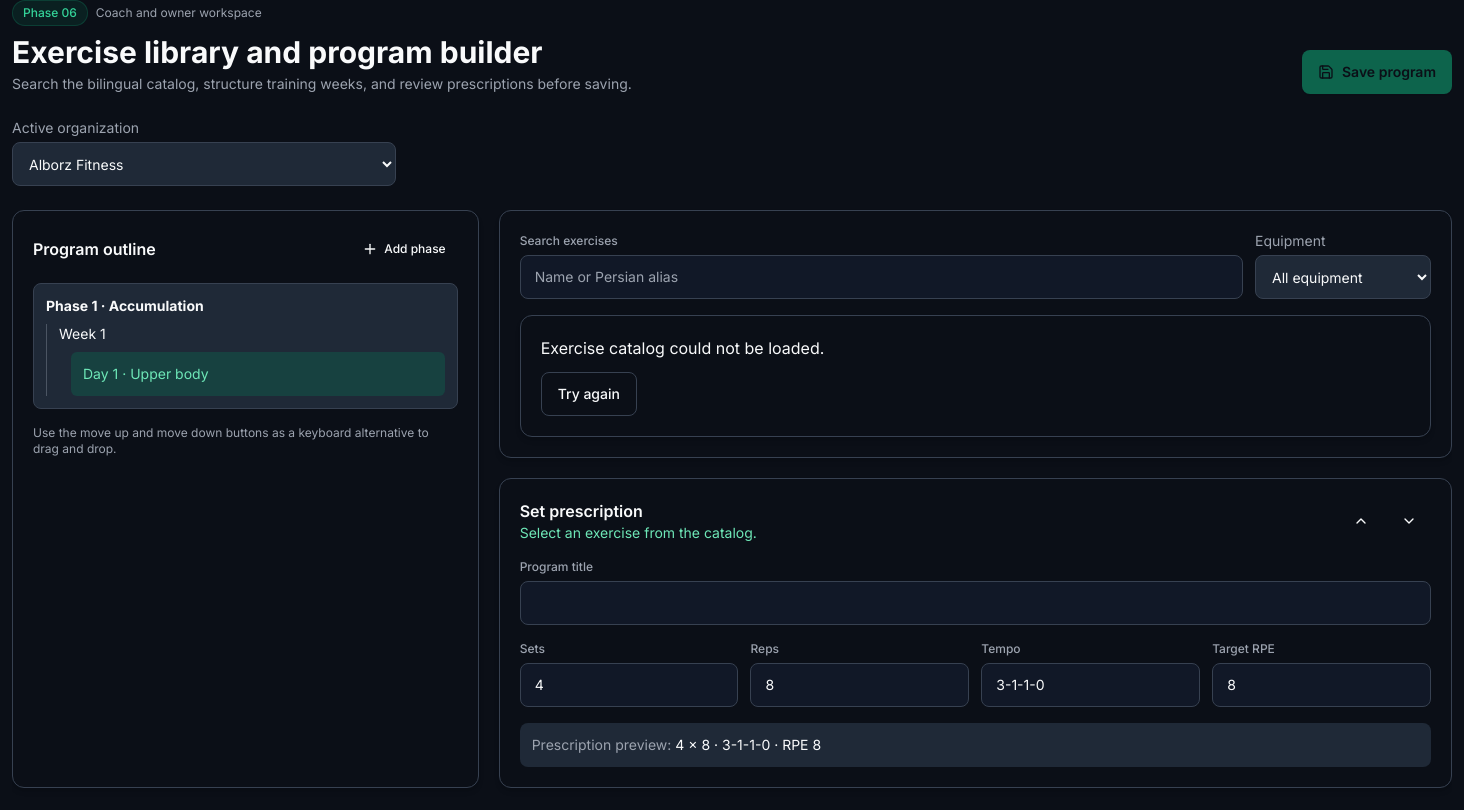
Test case: Phase 06 integrated training workspace › shows catalog failure and retries the API request
The image size is (1464, 810).
Expected: the text "Exercise catalog could not be loaded." is shown, [541,338,824,358]
What coordinates should you click on to do the following:
click the button "Try again"
I would click on:
 (589, 394)
Its box is [541,372,637,416].
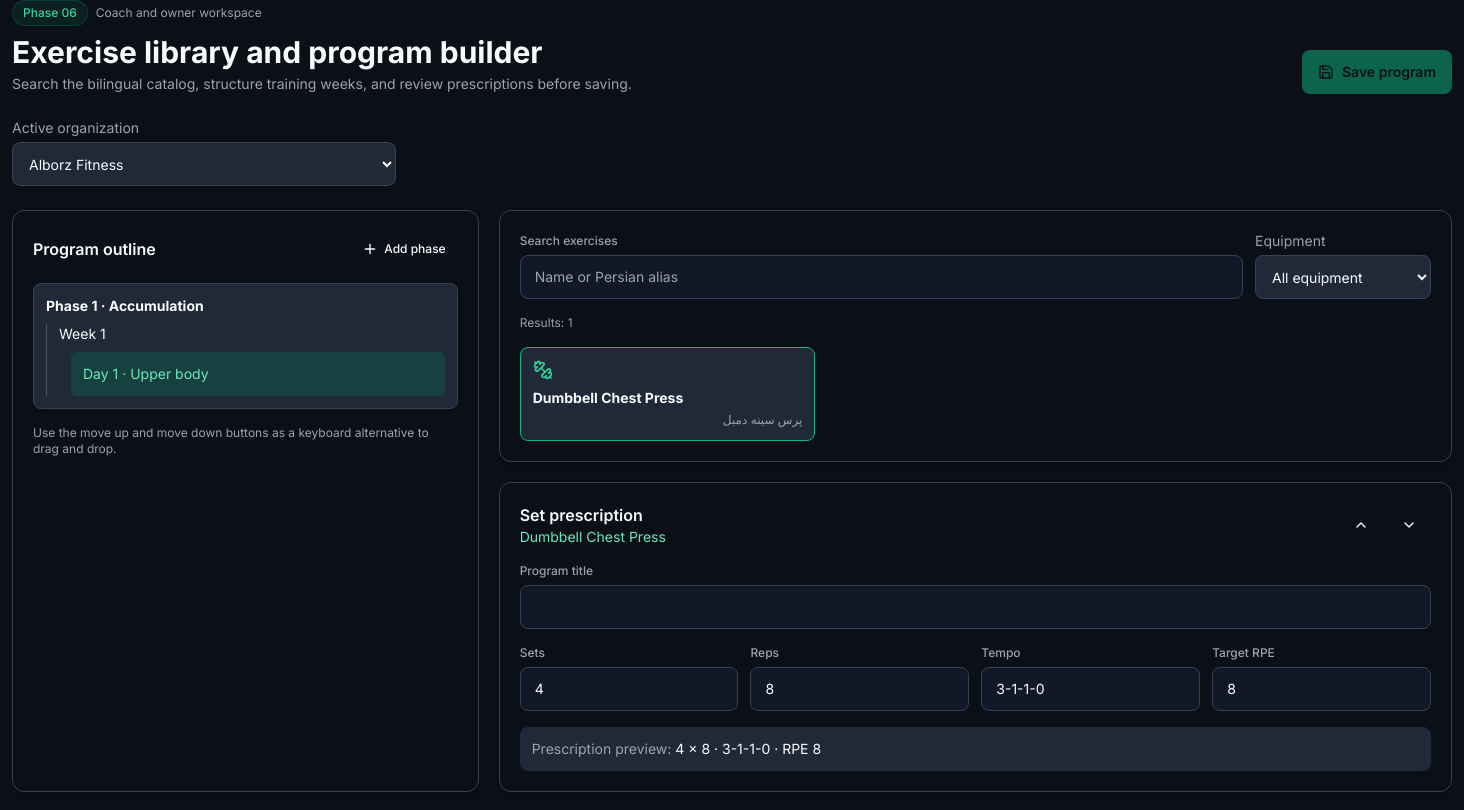
Expected: the button "Dumbbell Chest Press پرس سینه دمبل" is shown, [520,347,816,441]
